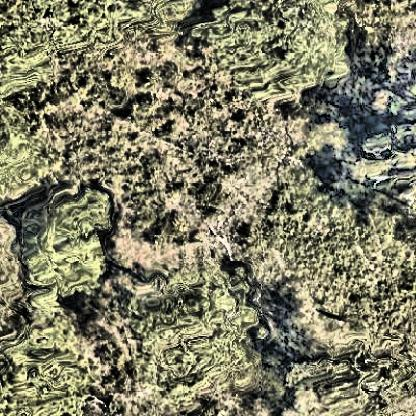tree-top: (198, 1, 354, 103), (1, 294, 102, 416), (19, 180, 112, 292)
